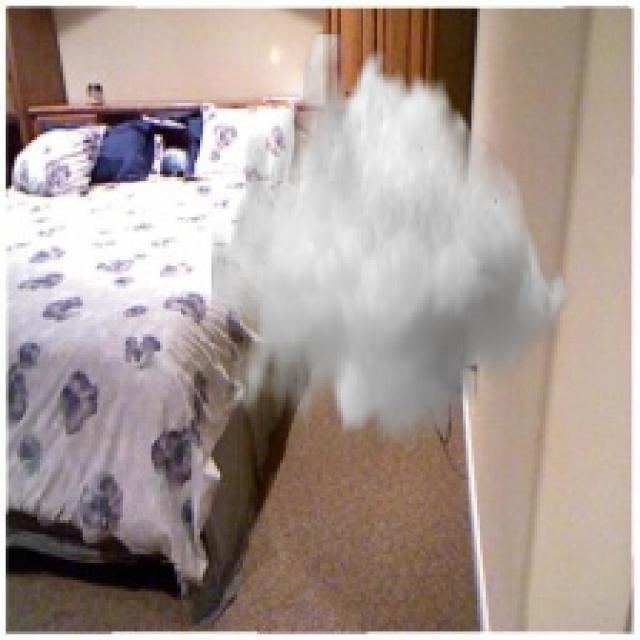Smoke: (212, 31, 577, 452)
